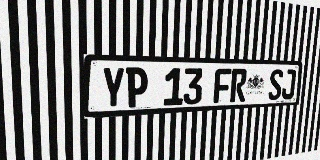1: (163, 68, 184, 106)
3: (183, 68, 203, 105)
F: (213, 68, 231, 103)
J: (281, 69, 296, 100)
P: (126, 67, 148, 108)
R: (230, 69, 247, 102)
S: (268, 69, 283, 100)
Y: (101, 67, 125, 109)
